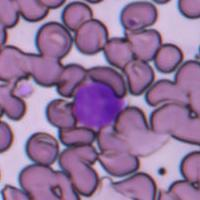L: (73, 81, 129, 129)
